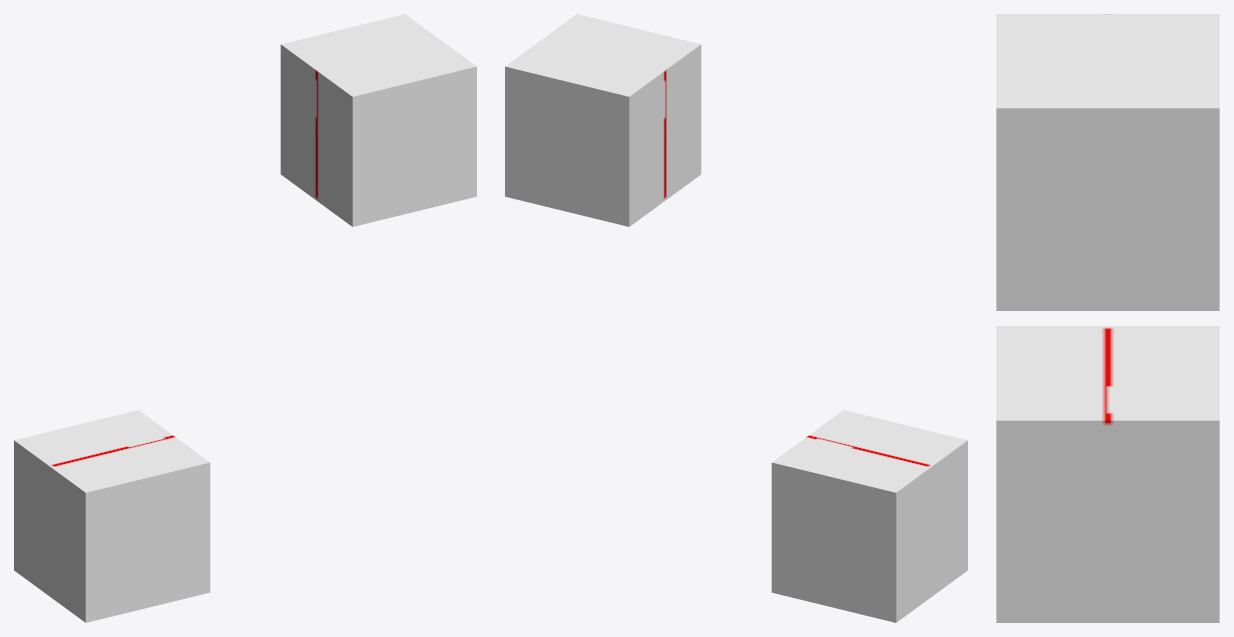
The model's file is AxisTest_textured.obj.
The picture shows the model from 3 angles, left to right: view 1: azimuth 30°, elevation 25°; view 2: azimuth 150°, elevation 25°; view 3: azimuth 270°, elevation 25°; orthographic projection. The views are drawn at different scales.
Visible parts, largest first — view 1: X-Axis_Cube.002, Y-Axis_Cube.003; view 2: X-Axis_Cube.002, Y-Axis_Cube.003; view 3: X-Axis_Cube.002, Y-Axis_Cube.003.
Boxes of the visible parts, <box> form: X-Axis_Cube.002: <box>14,410,210,622</box>; Y-Axis_Cube.003: <box>280,14,476,226</box>; X-Axis_Cube.002: <box>771,410,967,622</box>; Y-Axis_Cube.003: <box>505,14,701,226</box>; X-Axis_Cube.002: <box>996,326,1219,622</box>; Y-Axis_Cube.003: <box>996,14,1219,310</box>.
Size of the model in its own units: 6.29 by 7.08 by 2.
Materials: 2 (2 with a texture image).
